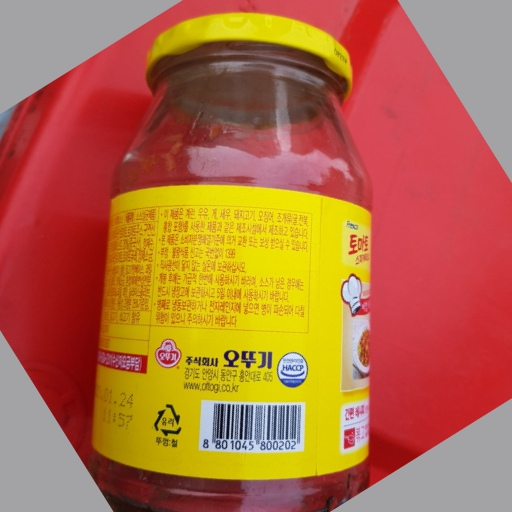Glass_5: (85, 11, 378, 512)
